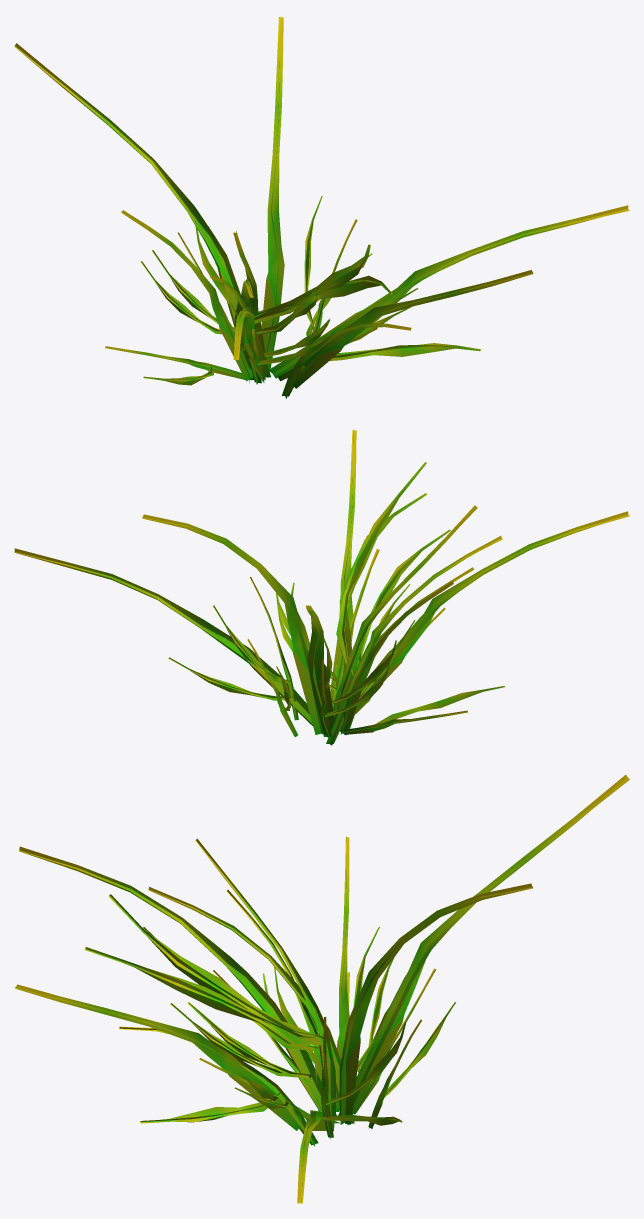
The model's file is Dead Finish_LOD1_Var9_ucokaamia.fbx.
3 views of the same model, one above another, from view 1: azimuth 30°, elevation 25°; view 2: azimuth 150°, elevation 25°; view 3: azimuth 270°, elevation 25° (orthographic). The views are drawn at different scales.
Parts seen in each view (by area): view 1: _yt2e_Var9_LOD1; view 2: _yt2e_Var9_LOD1; view 3: _yt2e_Var9_LOD1.
Boxes of the visible parts, x1,y1,x2,y2 form: _yt2e_Var9_LOD1: (14, 17, 629, 398); _yt2e_Var9_LOD1: (14, 429, 629, 745); _yt2e_Var9_LOD1: (14, 775, 629, 1203).
Bounding box in the file's own units: 41.43 × 21.75 × 38.89.
